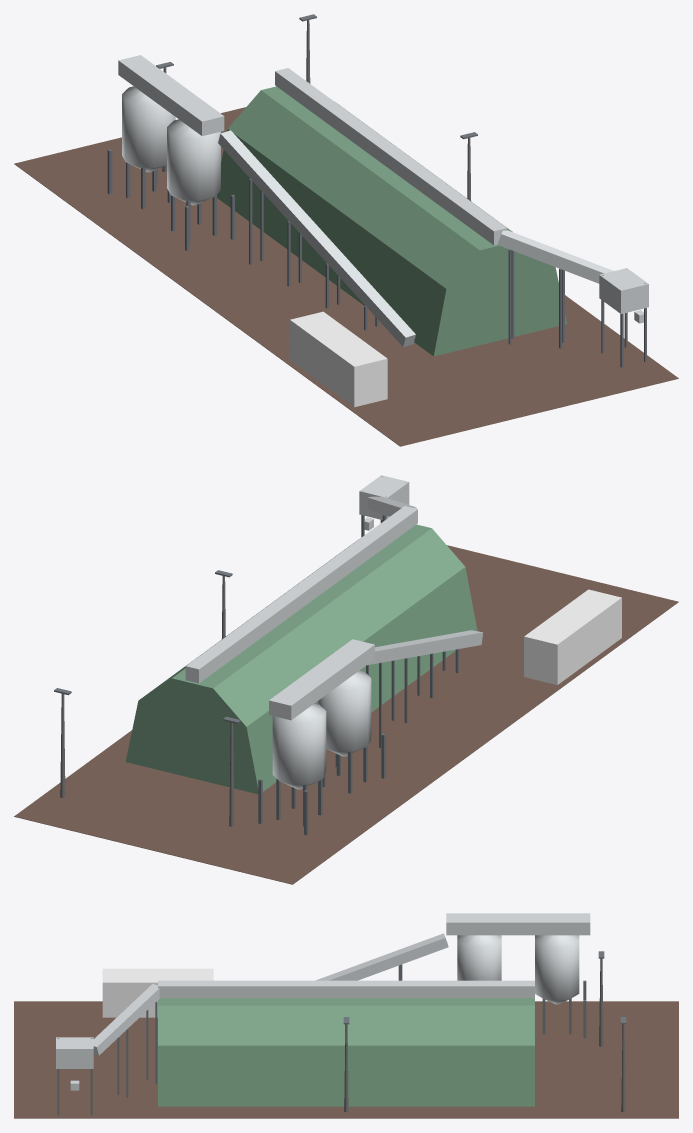
The model's file is top-prebuilt_far.fbx.
The picture shows the model from 3 angles, top to bottom: view 1: azimuth 30°, elevation 25°; view 2: azimuth 150°, elevation 25°; view 3: azimuth 270°, elevation 25°; orthographic projection. The views are drawn at different scales.
Visible parts, largest first — view 1: a1078_0_top-prebuilt_far; view 2: a1078_0_top-prebuilt_far; view 3: a1078_0_top-prebuilt_far.
Boxes of the visible parts, x1,y1,x2,y2 form: a1078_0_top-prebuilt_far: (14,14,678,446); a1078_0_top-prebuilt_far: (14,475,678,884); a1078_0_top-prebuilt_far: (14,913,678,1118).
Bounding box in the file's own units: 50 × 22 × 120.
